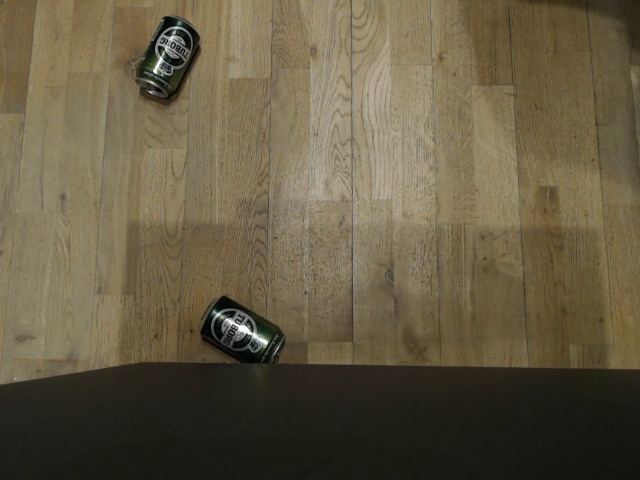beer: (196, 294, 286, 364), (132, 13, 202, 100)
